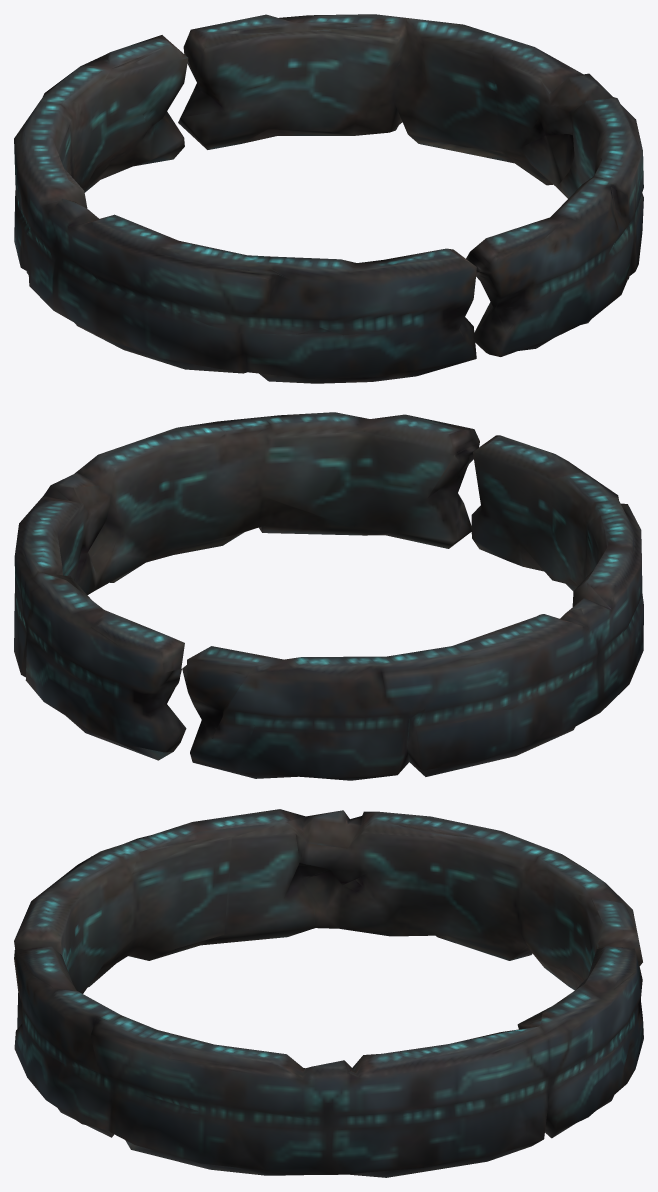
Rendered from orbital-ring.glb.
The picture shows the model from 3 angles, top to bottom: view 1: azimuth 30°, elevation 25°; view 2: azimuth 150°, elevation 25°; view 3: azimuth 270°, elevation 25°; orthographic projection.
Parts seen in each view (by area): view 1: Mesh1.0; view 2: Mesh1.0; view 3: Mesh1.0.
Part boxes in pixels (left/top/right/bottom): Mesh1.0: left=14, top=14, right=643, bottom=383; Mesh1.0: left=14, top=412, right=643, bottom=780; Mesh1.0: left=14, top=809, right=643, bottom=1177.
Size of the model in its own units: 1.91 by 0.3889 by 1.91.
Materials: 1 (1 with a texture image).
